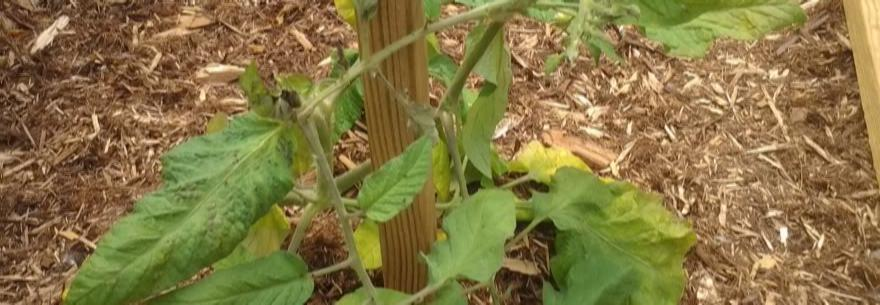Tomato leaf: (49, 110, 297, 305), (414, 167, 512, 302), (649, 0, 814, 57)
